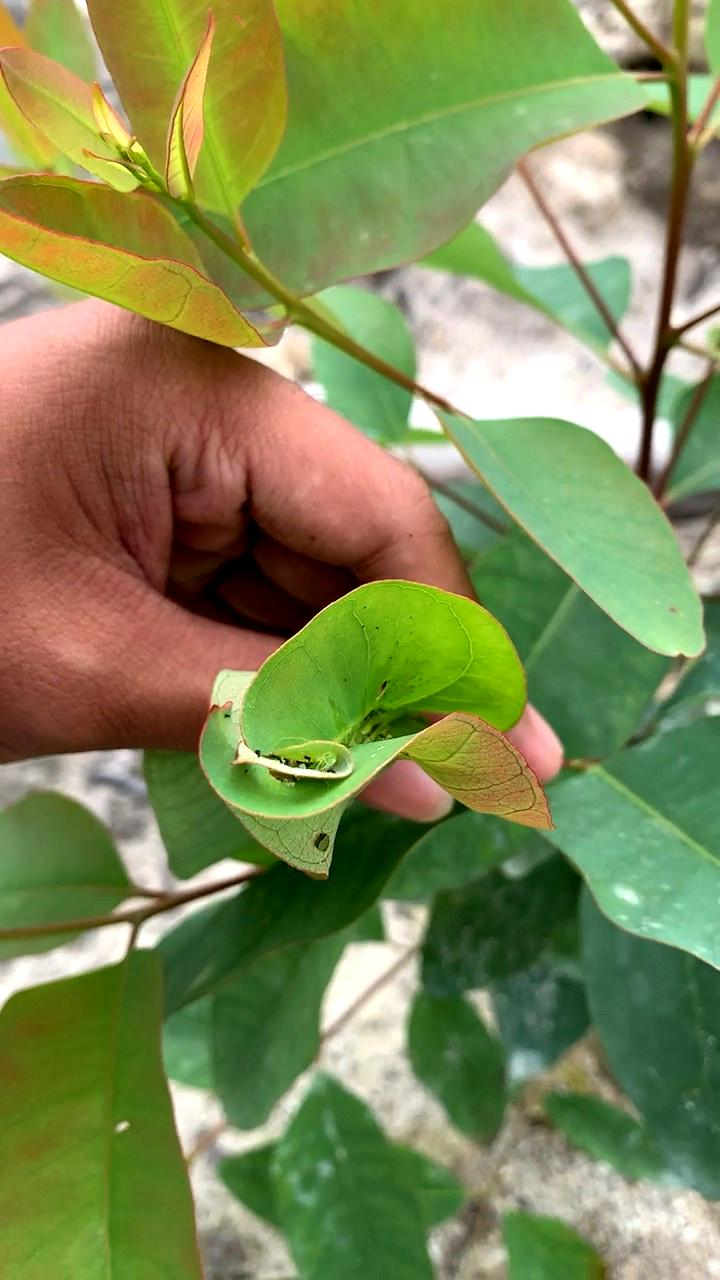Leaf Roller - Leaf: (175, 573, 576, 914)
